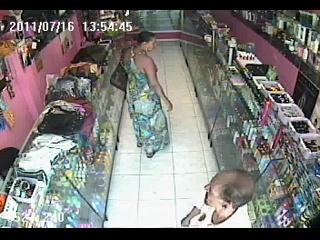Normal: (123, 31, 173, 158), (178, 169, 258, 228)
